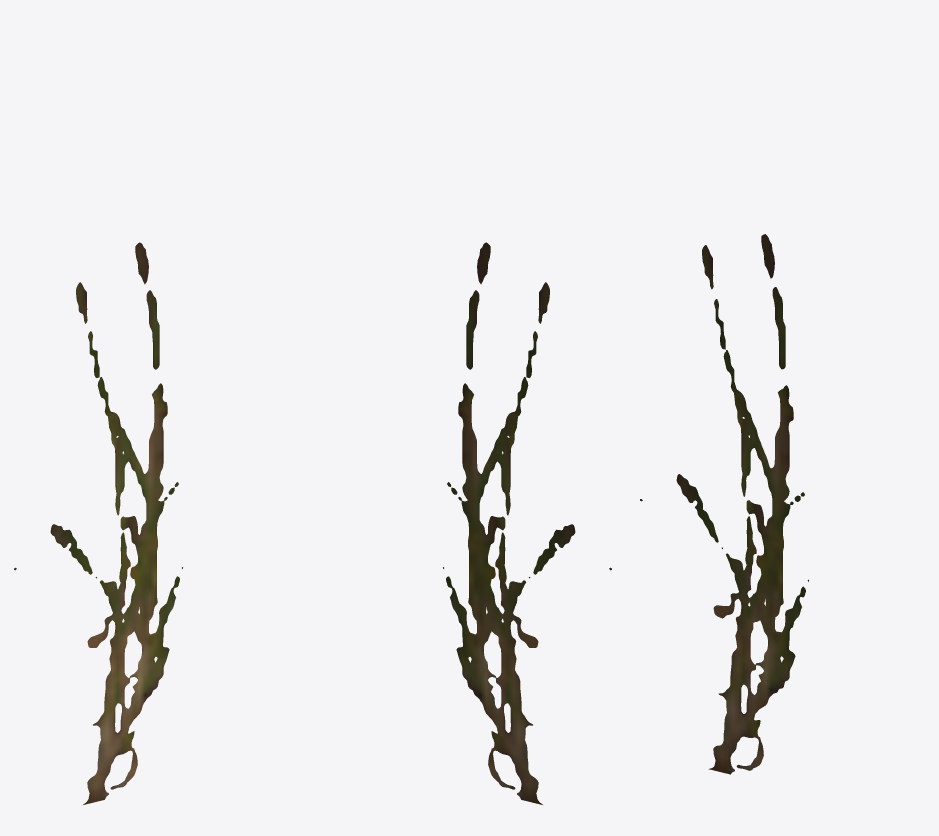
Rendered from reed_6.FBX.
3 renders of one model, left to right at view 1: azimuth 30°, elevation 25°; view 2: azimuth 150°, elevation 25°; view 3: azimuth 330°, elevation 25°, orthographic.
Visible parts, largest first — view 1: reed_06; view 2: reed_06; view 3: reed_06.
Part boxes in pixels (x1,y1,x2,y2): reed_06: (14, 242, 182, 804); reed_06: (443, 242, 611, 804); reed_06: (640, 234, 808, 774).
Bounding box in the file's own units: 30 × 74.29 × 1.08e-05.
